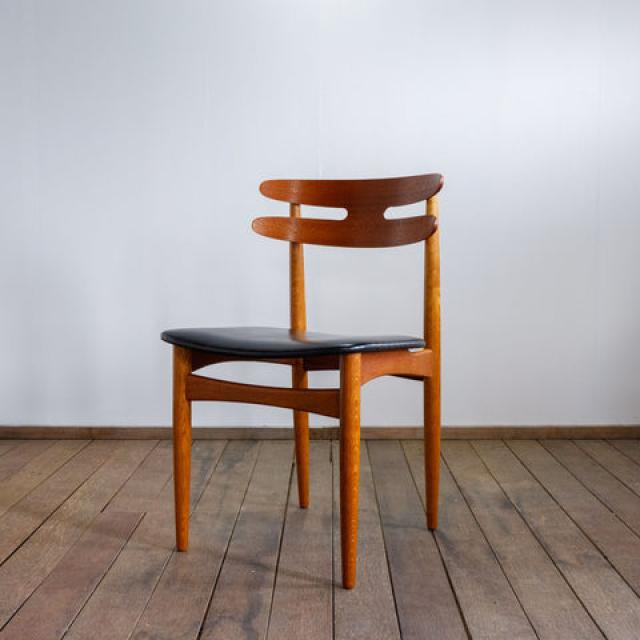chair vintage: (158, 172, 452, 591)
